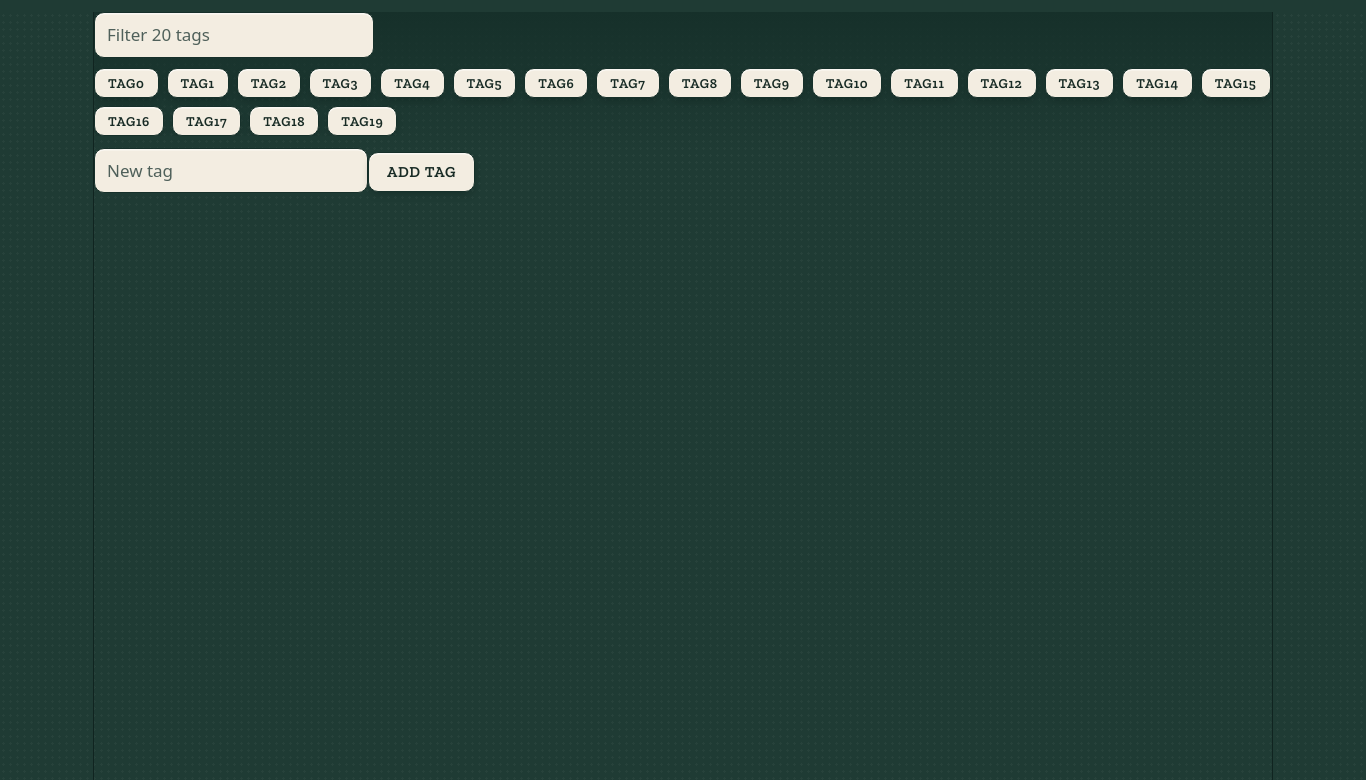
Test: a long tag list gets a filter box that narrows the row
Type "tag19" into the field named "filter tags".
click(234, 35); type("tag19")  # box [94,12,374,58]
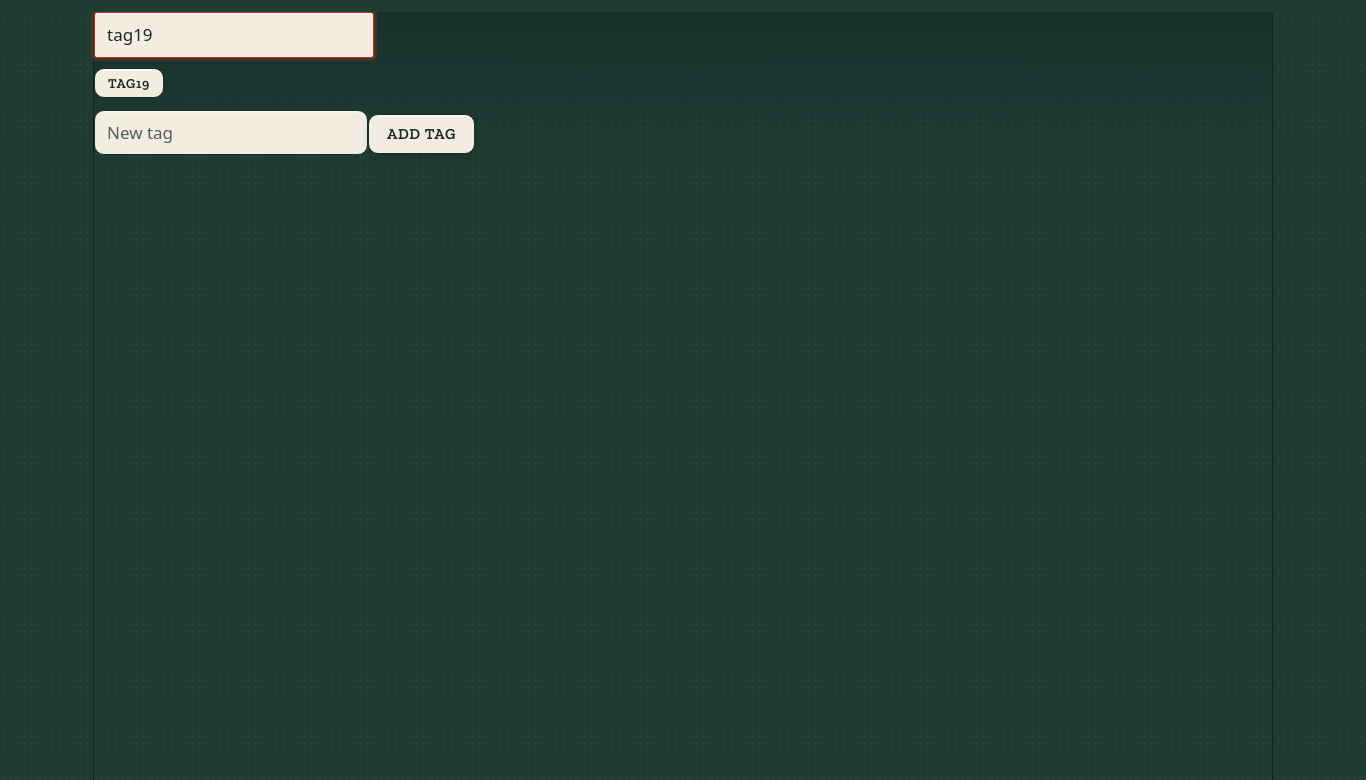
Expected: the button "tag19" is shown, [94,68,164,98]
Expected: the button "tag0" is gone
